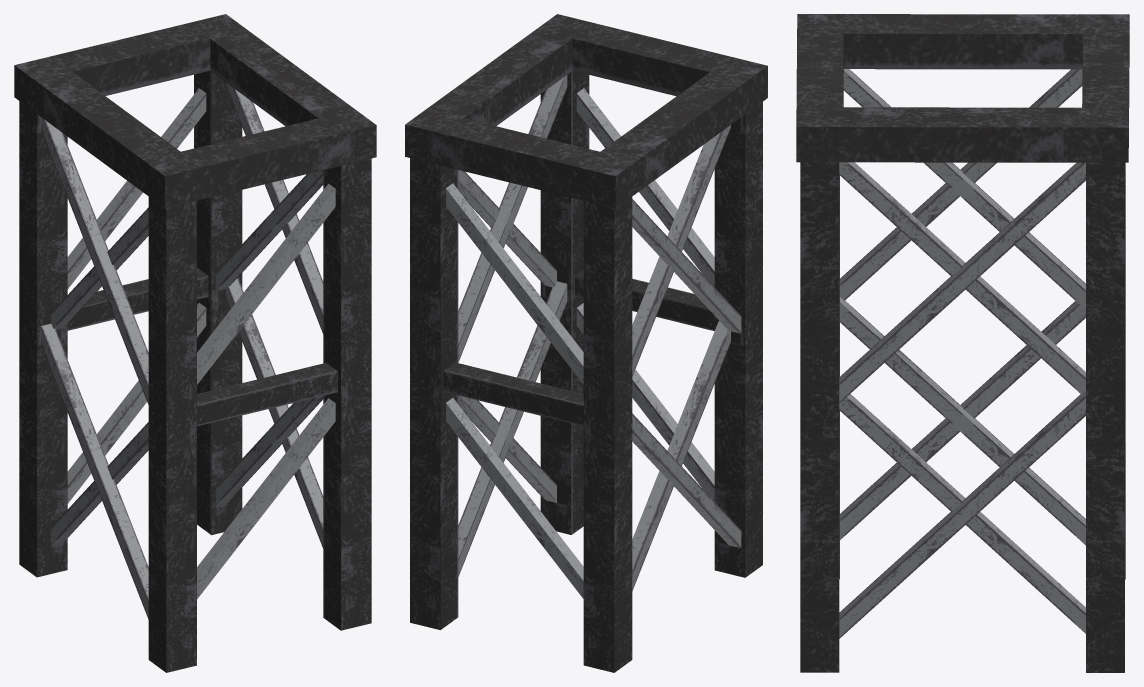
Rendered from beam_l_3.fbx.
3 views of the same model, side by side, from view 1: azimuth 30°, elevation 25°; view 2: azimuth 150°, elevation 25°; view 3: azimuth 270°, elevation 25° (orthographic). The views are drawn at different scales.
Visible parts, largest first — view 1: beam_l_3; view 2: beam_l_3; view 3: beam_l_3.
Boxes of the visible parts, box(x1,y1,x2,y2) form: beam_l_3: box(14, 14, 376, 672); beam_l_3: box(405, 14, 767, 672); beam_l_3: box(796, 14, 1129, 672).
Bounding box in the file's own units: 4.14 × 9.3 × 5.13.
